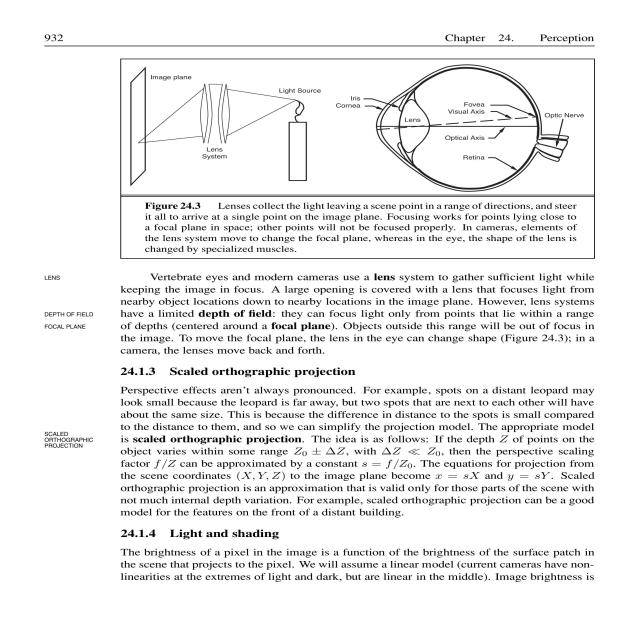diagram: (100, 54, 640, 257)
